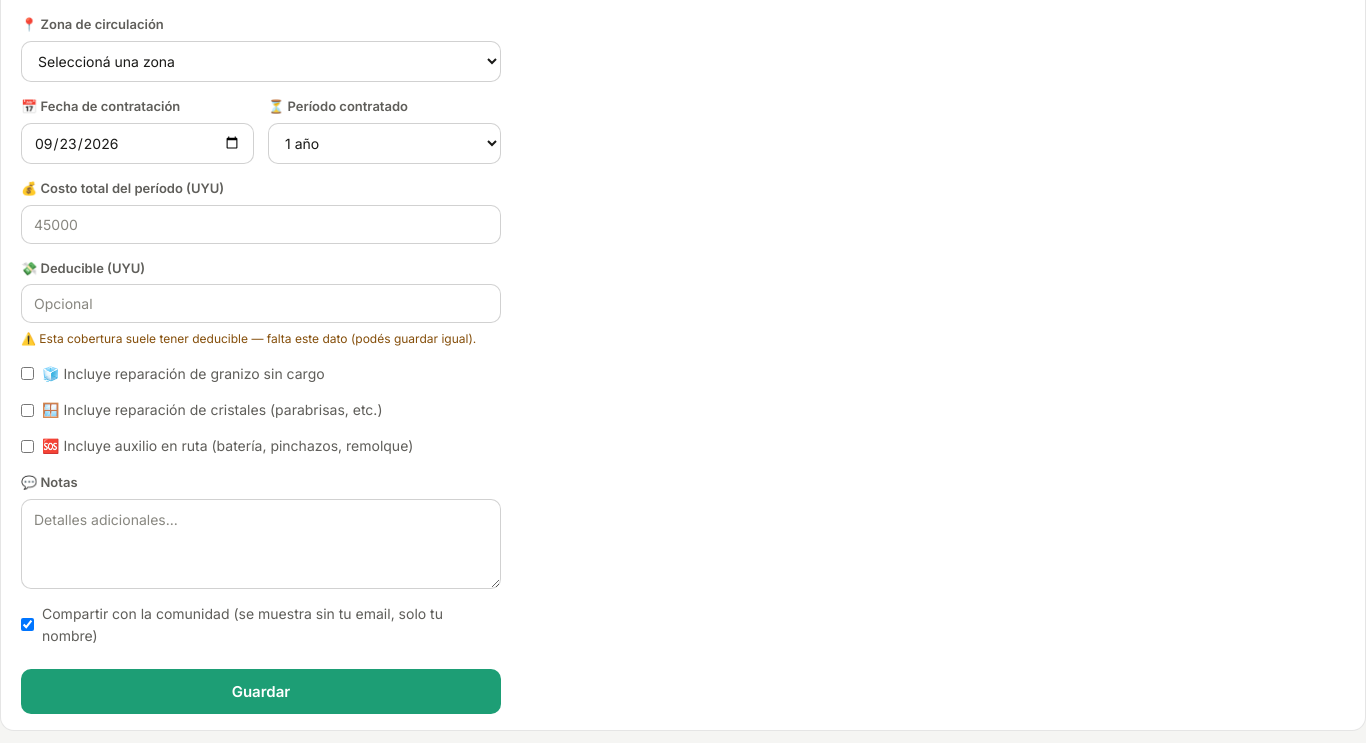
Test case: NewInsuranceQuotePage › reveals a "times per year" input for a "count"-kind addon
(page scrolled)
Expected: the text "🧊 Incluye reparación de granizo sin cargo" is shown, [21,365,325,382]
Click the checkbox labelled "🆘 Incluye auxilio en ruta (batería, pinchazos, remolque)". click: (28, 446)
box: [21,440,34,453]
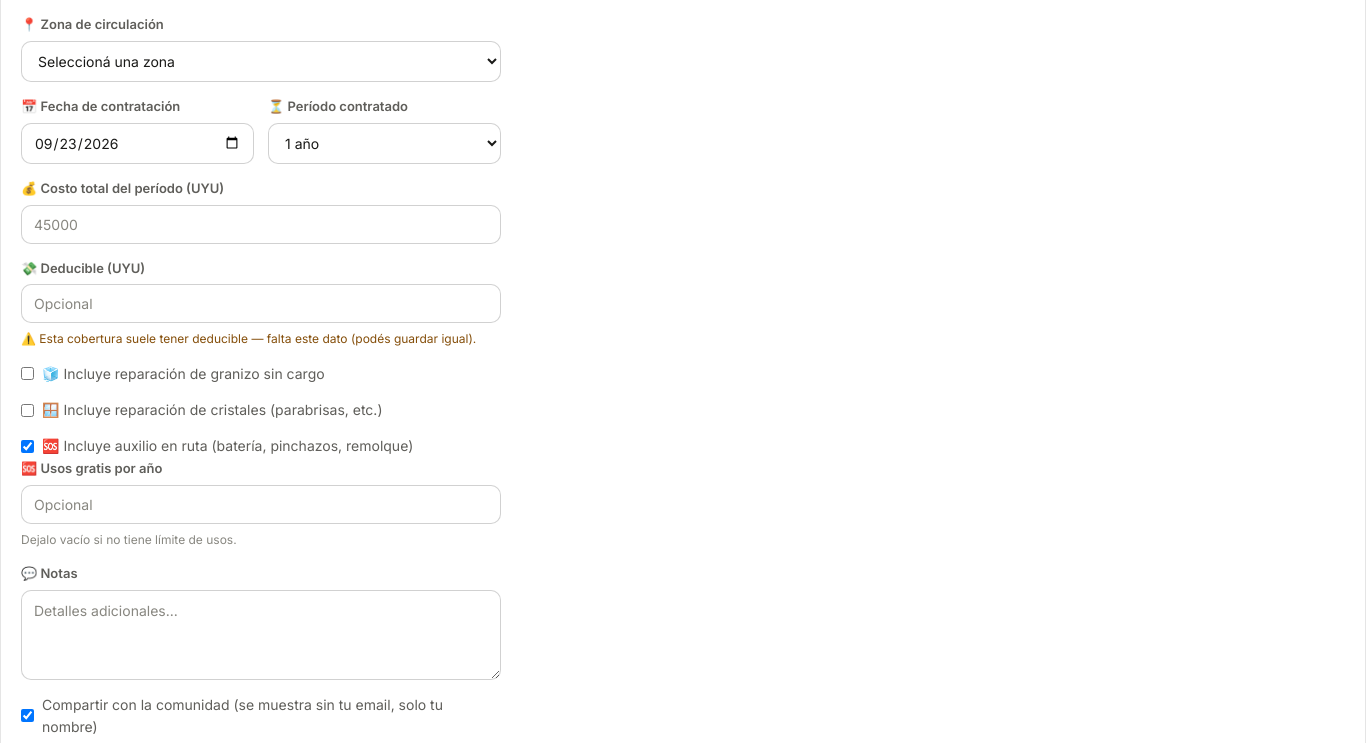
Expected: the text "Dejalo vacío si no tiene límite de usos." is shown, [21,532,237,546]
